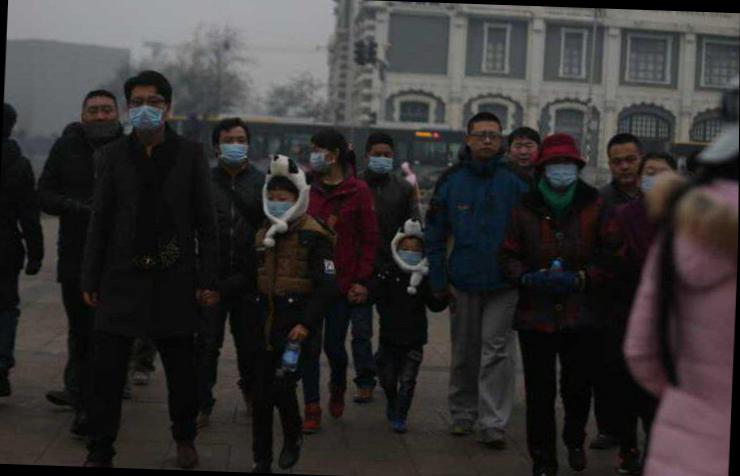NONE: (611, 151, 640, 185), (471, 126, 501, 157), (511, 142, 537, 166)
OK: (129, 90, 168, 129), (219, 133, 253, 167), (543, 158, 577, 188), (642, 166, 673, 197), (267, 191, 296, 221), (309, 145, 340, 173), (367, 146, 396, 174), (398, 239, 424, 268)
WRONG: (84, 98, 120, 134)
